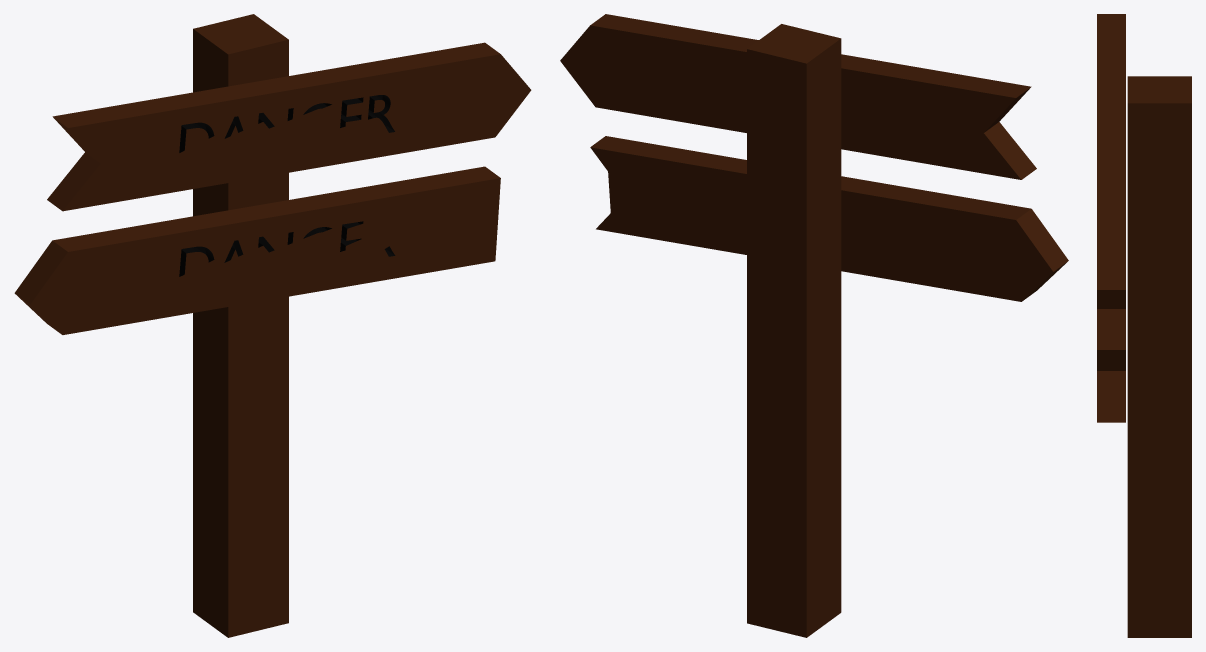
The model's file is DangerSign 1.fbx.
3 renders of one model, left to right at view 1: azimuth 30°, elevation 25°; view 2: azimuth 150°, elevation 25°; view 3: azimuth 270°, elevation 25°, orthographic. The views are drawn at different scales.
Visible parts, largest first — view 1: Direction2, Direction1, Block; view 2: Block, Direction2, Direction1; view 3: Block, Direction1, Direction2.
Part boxes in pixels (left/top/right/bottom): Direction2: left=14, top=166, right=500, bottom=334; Direction1: left=47, top=42, right=531, bottom=211; Block: left=193, top=14, right=288, bottom=637; Block: left=747, top=24, right=841, bottom=637; Direction2: left=590, top=136, right=1068, bottom=301; Direction1: left=560, top=14, right=1036, bottom=179; Block: left=1127, top=76, right=1191, bottom=637; Direction1: left=1097, top=14, right=1125, bottom=308; Direction2: left=1097, top=309, right=1125, bottom=422.
Size of the model in its own units: 2309 by 2568 by 413.
